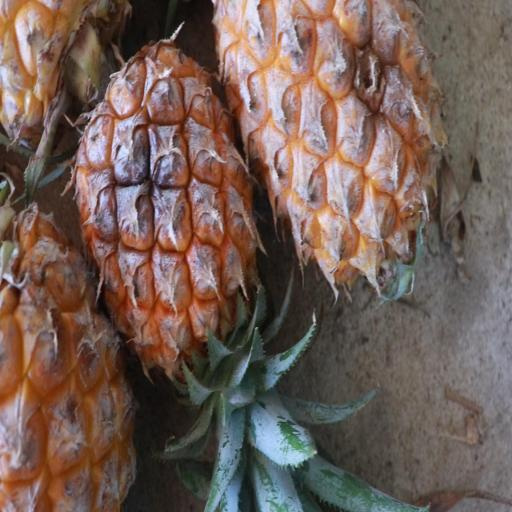Pineapple - v8 v1: (73, 26, 262, 440), (216, 0, 456, 309), (0, 170, 141, 512)
